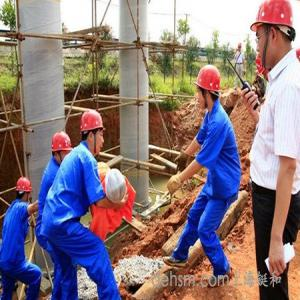red: (254, 2, 293, 65), (81, 108, 105, 158), (197, 64, 220, 112), (53, 129, 73, 166), (15, 176, 34, 206)
